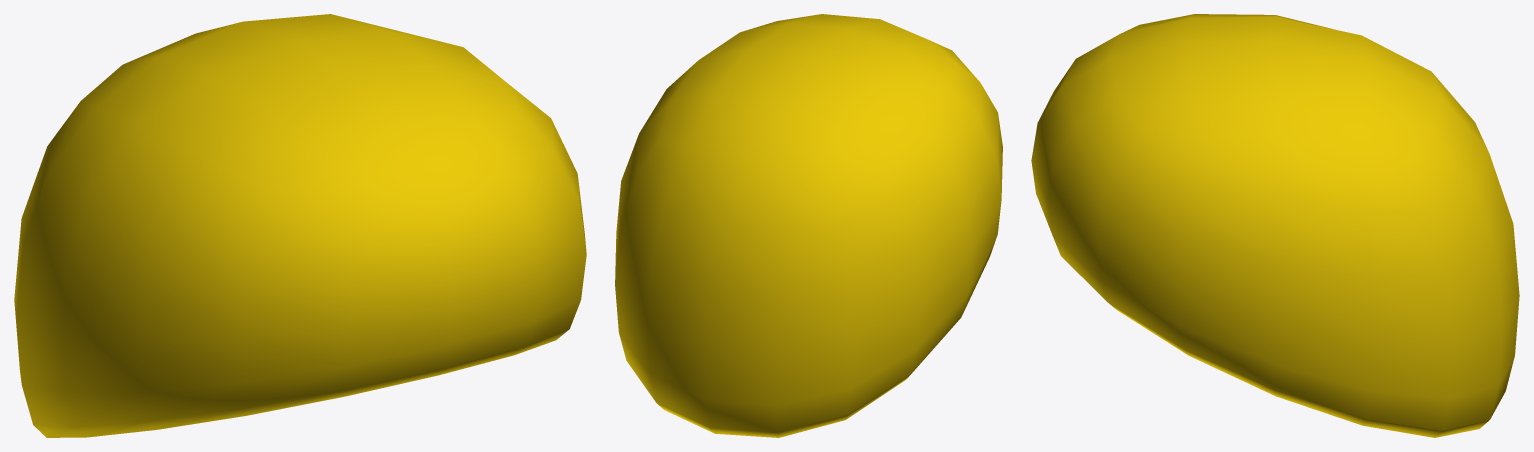
Rendered from helmet.fbx.
3 views of the same model, side by side, from view 1: azimuth 30°, elevation 25°; view 2: azimuth 150°, elevation 25°; view 3: azimuth 270°, elevation 25° (orthographic). The views are drawn at different scales.
Parts seen in each view (by area): view 1: Helmet; view 2: Helmet; view 3: Helmet.
Boxes of the visible parts, x1,y1,x2,y2 form: Helmet: (14,14,586,437); Helmet: (615,14,1002,437); Helmet: (1031,14,1519,437).
Size of the model in its own units: 103 by 93.95 by 116.
